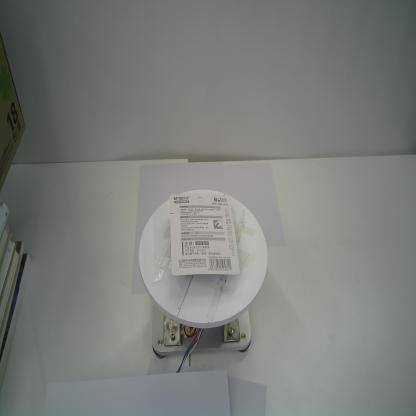Stationery: (170, 193, 241, 275)
